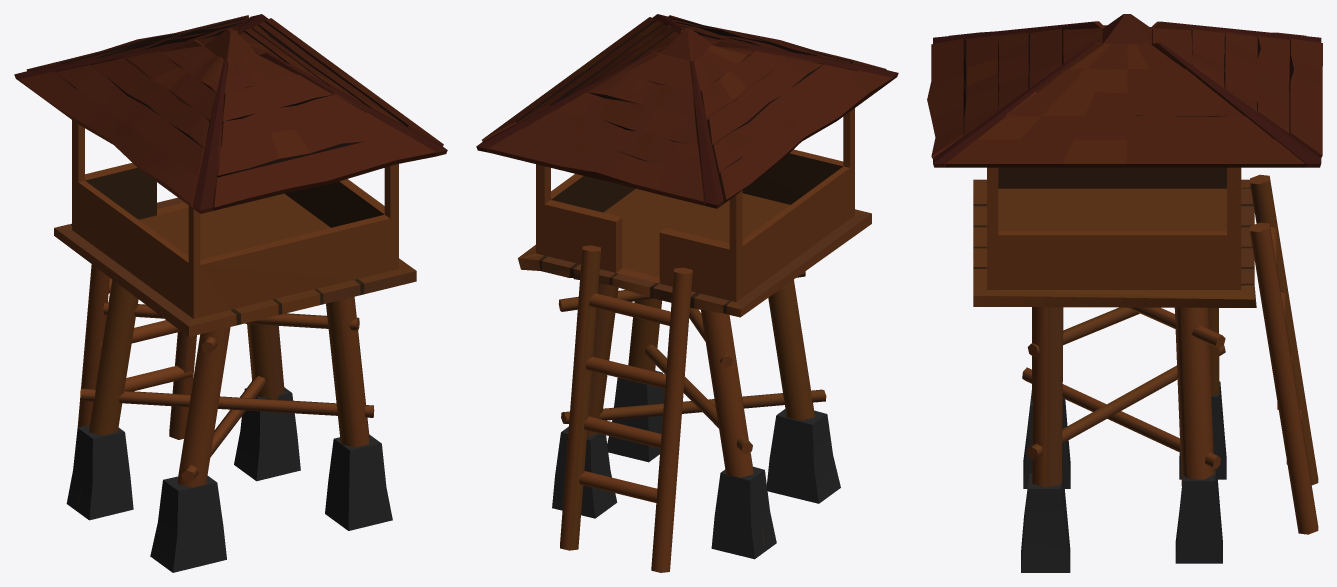
File: Original_Archer_Tower_Level_1.FBX
3 views of the same model, side by side, from view 1: azimuth 30°, elevation 25°; view 2: azimuth 150°, elevation 25°; view 3: azimuth 270°, elevation 25° (orthographic). The views are drawn at different scales.
Parts seen in each view (by area): view 1: Cylinder010; view 2: Cylinder010; view 3: Cylinder010.
Part boxes in pixels (x1,y1,x2,y2): Cylinder010: (14, 14, 447, 572); Cylinder010: (476, 14, 898, 572); Cylinder010: (927, 14, 1322, 572).
Bounding box in the file's own units: 1.14 × 2.07 × 1.48.
